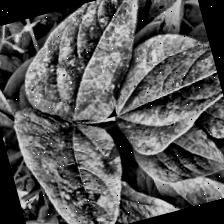Bean Rust: (4, 0, 186, 131), (92, 22, 224, 161), (7, 92, 135, 224)
